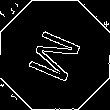M_SE: (23, 24, 87, 86)
